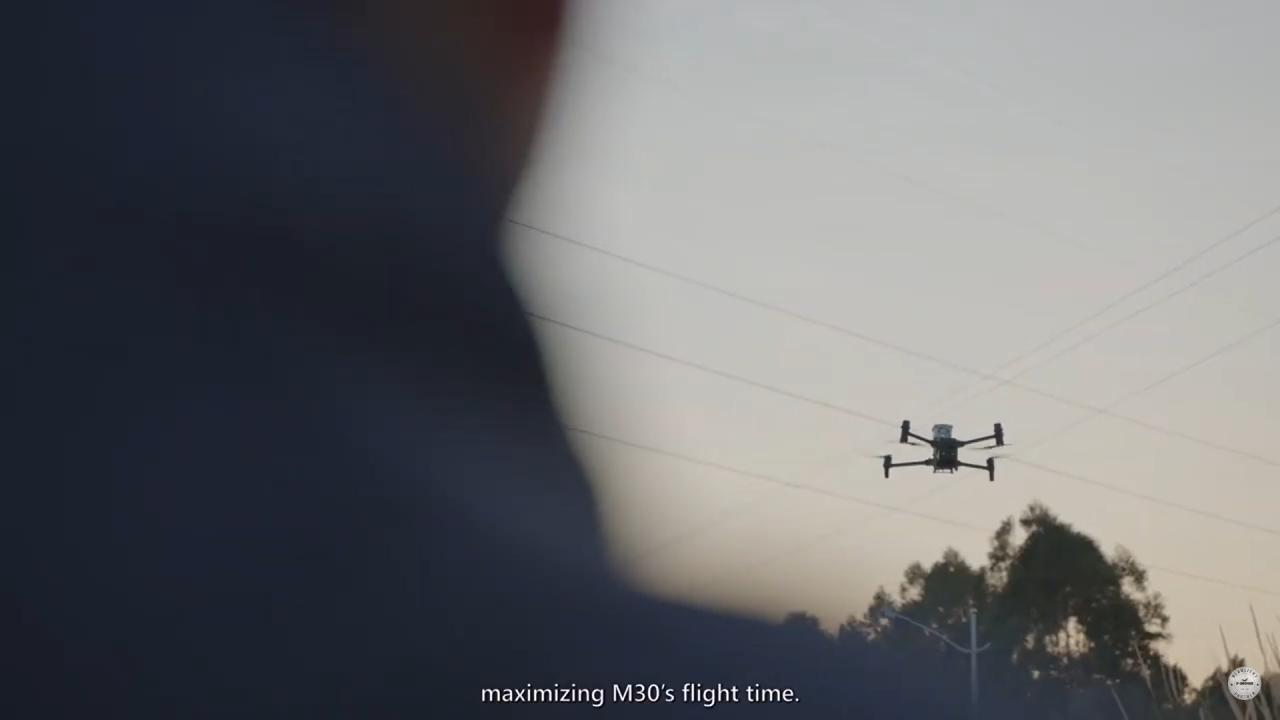Drone: (862, 403, 1024, 495)
